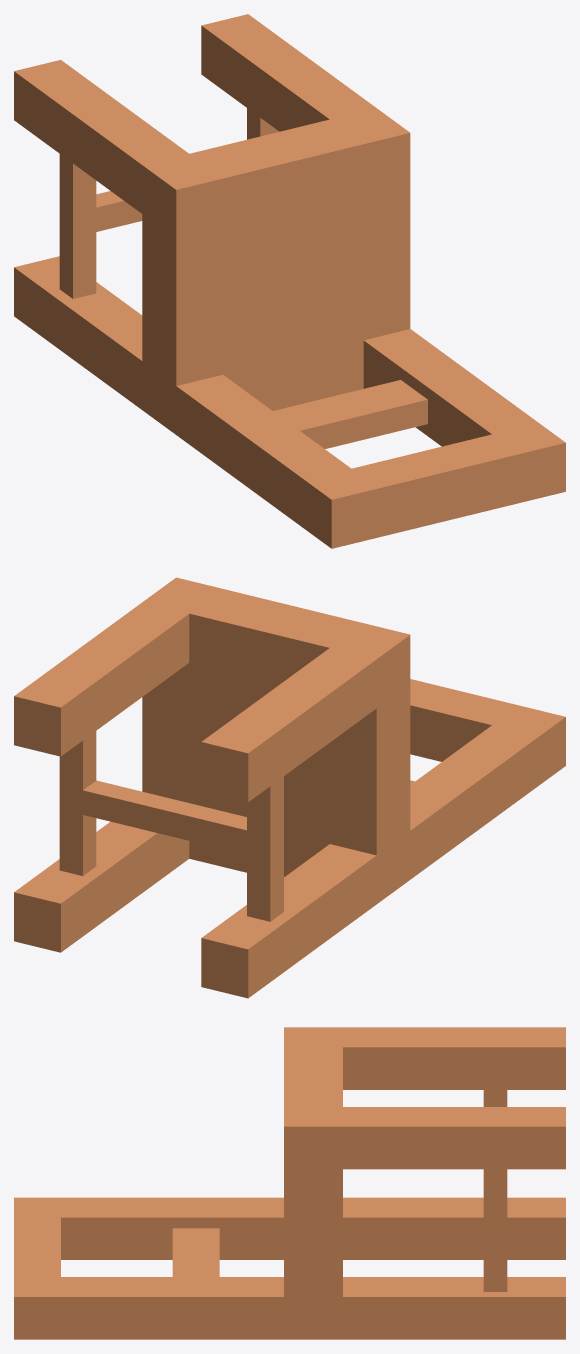
File: chair.obj
The picture shows the model from 3 angles, top to bottom: view 1: azimuth 30°, elevation 25°; view 2: azimuth 150°, elevation 25°; view 3: azimuth 270°, elevation 25°; orthographic projection. The views are drawn at different scales.
Parts seen in each view (by area): view 1: chair.003; view 2: chair.003; view 3: chair.003.
Boxes of the visible parts, x1,y1,x2,y2 form: chair.003: [14, 14, 565, 548]; chair.003: [14, 577, 565, 998]; chair.003: [14, 1027, 565, 1339].
Bounding box in the file's own units: 0.7022 × 0.7022 × 1.65.
